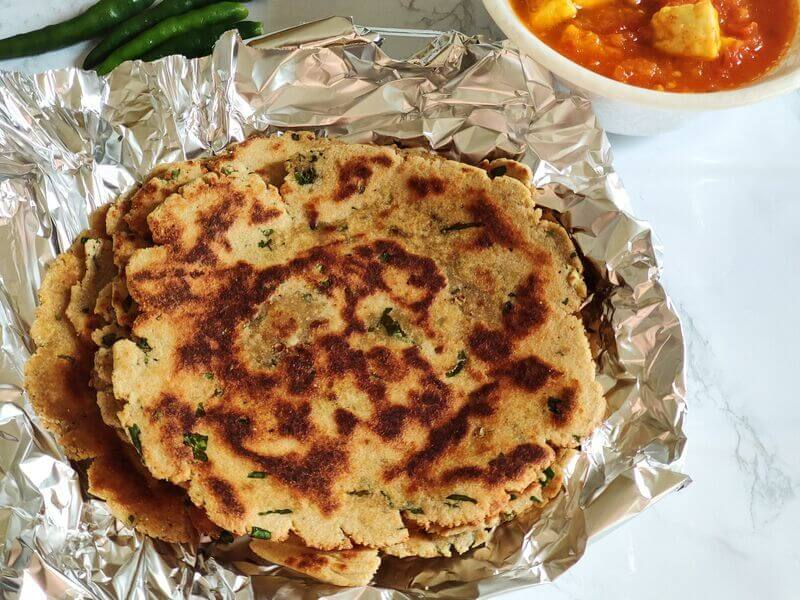aloo_paratha: (28, 134, 608, 576)
